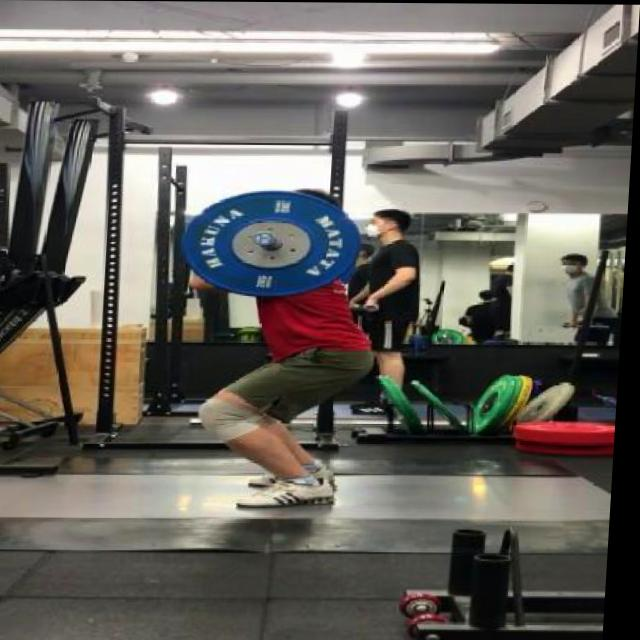barbell: (182, 186, 369, 301)
